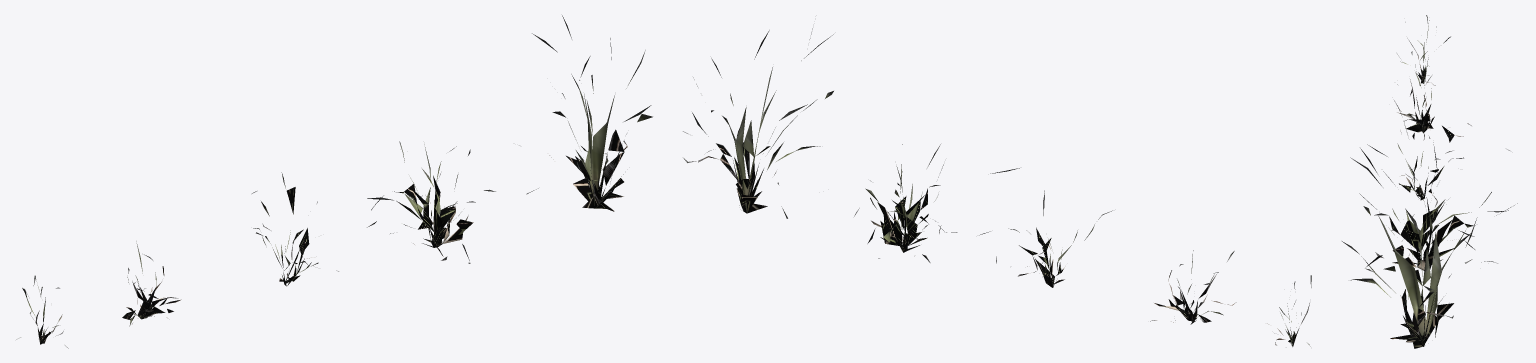
File: grass_medium_02_lod2.glb
The picture shows the model from 3 angles, left to right: view 1: azimuth 30°, elevation 25°; view 2: azimuth 150°, elevation 25°; view 3: azimuth 270°, elevation 25°; orthographic projection. The views are drawn at different scales.
Parts seen in each view (by area): view 1: grass_medium_02_e, grass_medium_02_d, grass_medium_02_c, grass_medium_02_b; view 2: grass_medium_02_e, grass_medium_02_d, grass_medium_02_c, grass_medium_02_b; view 3: grass_medium_02_e, grass_medium_02_d, grass_medium_02_b, grass_medium_02_c, grass_medium_02_a.
Part boxes in pixels (x1,y1,x2,y2): grass_medium_02_e: (519, 15, 652, 211); grass_medium_02_d: (367, 141, 495, 263); grass_medium_02_c: (252, 172, 338, 286); grass_medium_02_b: (122, 241, 181, 326); grass_medium_02_e: (683, 28, 833, 218); grass_medium_02_d: (854, 144, 1019, 262); grass_medium_02_c: (979, 190, 1112, 287); grass_medium_02_b: (1150, 250, 1236, 324); grass_medium_02_e: (1342, 142, 1517, 348); grass_medium_02_d: (1359, 144, 1508, 278); grass_medium_02_b: (1397, 54, 1471, 142); grass_medium_02_c: (1394, 97, 1509, 216); grass_medium_02_a: (1400, 15, 1450, 85).
Bounding box in the file's own units: 1.27 × 0.3824 × 0.3233.
1 material, 1 textured.
